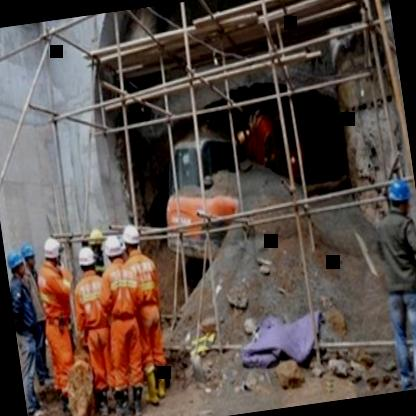helmet: (379, 170, 416, 219), (38, 230, 66, 270), (115, 219, 142, 256), (72, 243, 100, 277), (4, 242, 29, 278), (100, 232, 124, 264), (17, 239, 37, 269)
